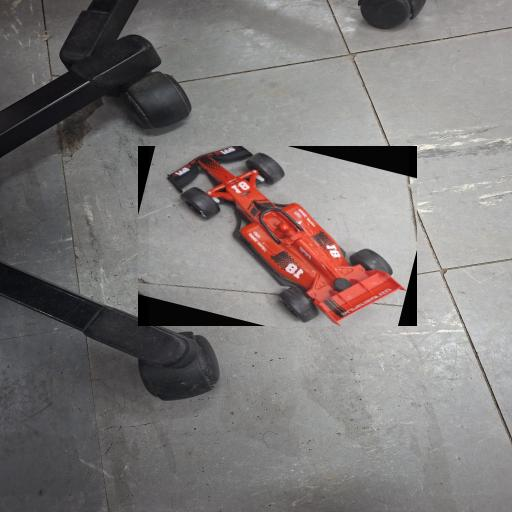carro: (149, 146, 409, 326)
